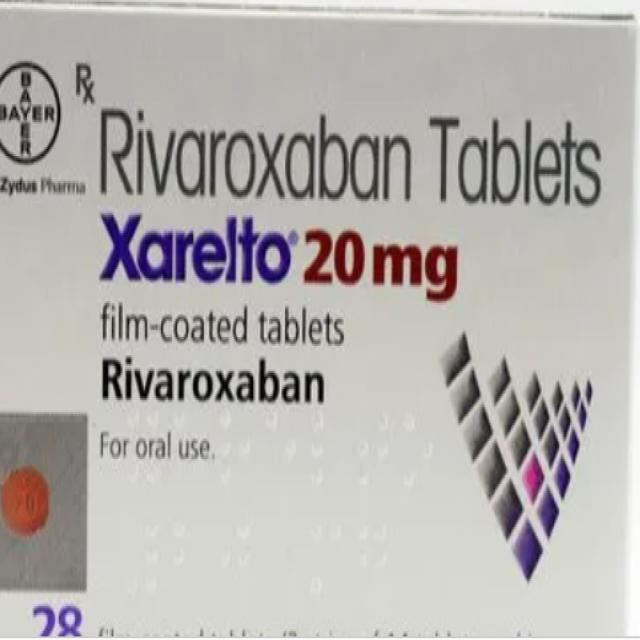drug-name: (100, 211, 299, 288)
